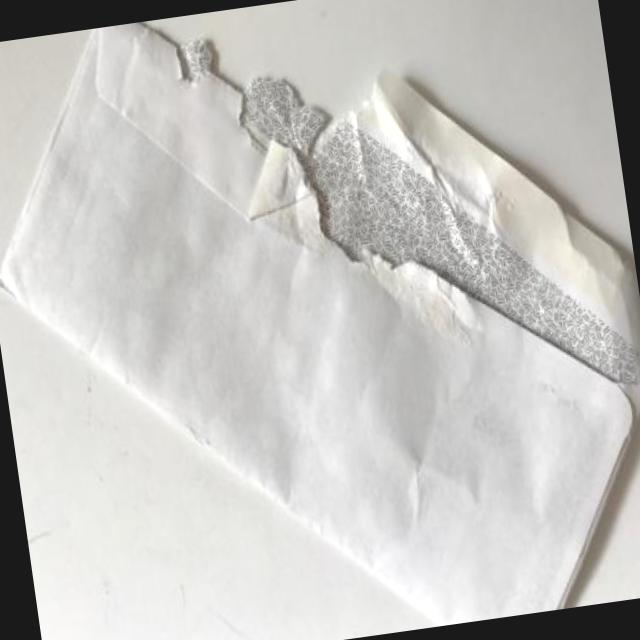giay: (0, 21, 640, 626)
